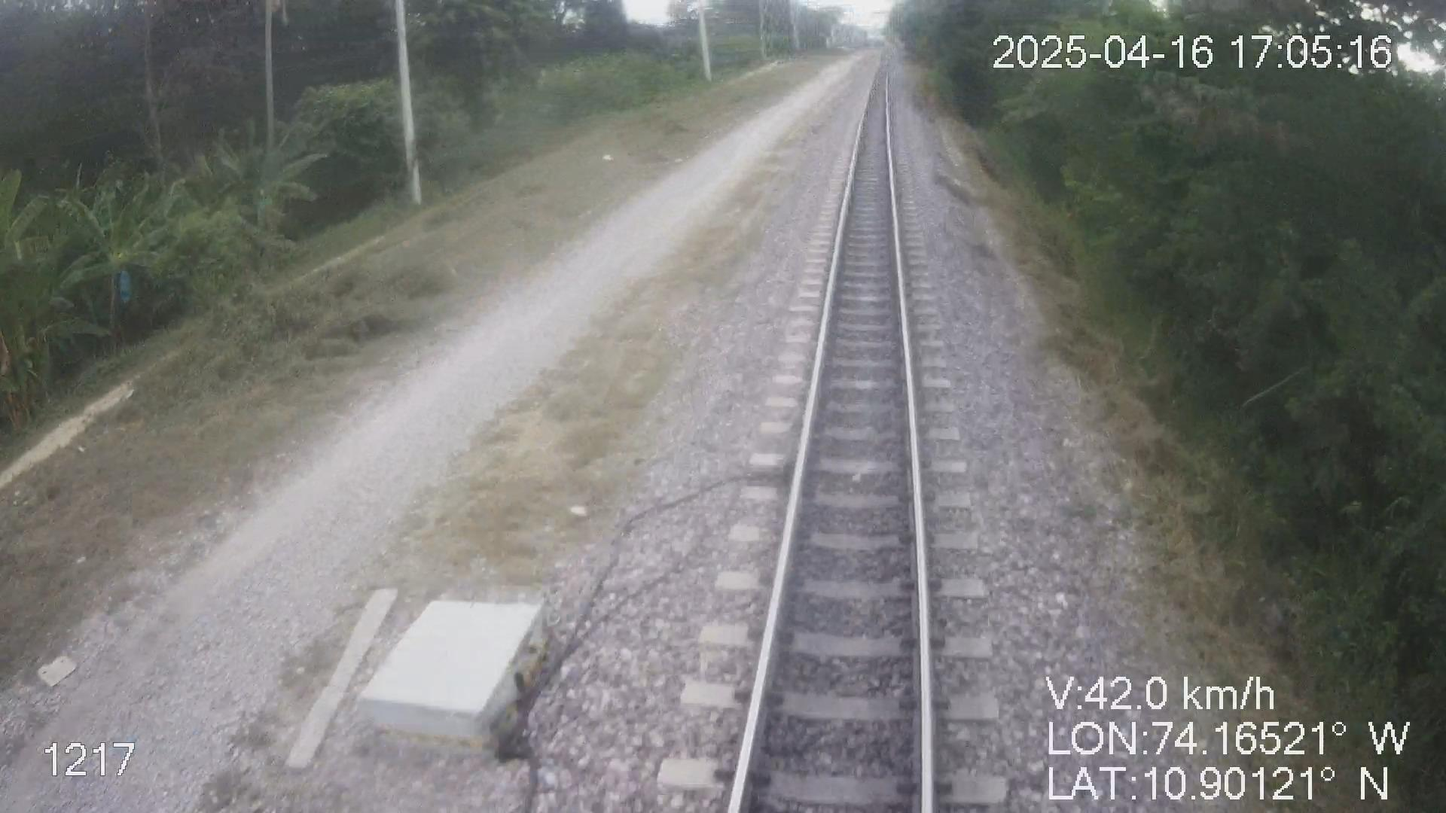Pasto: (0, 0, 895, 687), (888, 0, 1445, 812)
